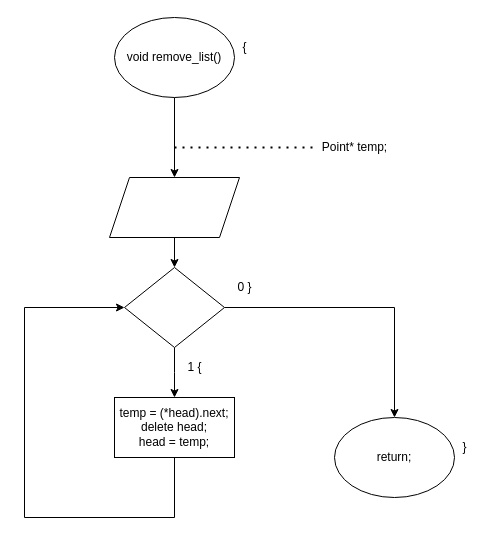
The diagram is 492 pixels wide and 543 high, and some of its shapes have lost their labels. Here are the shapes that lost their labels. From the top down, the centre of each, then its label:
At (x=174, y=207): "Вспомогательный вывод;".
At (x=174, y=307): "while (head != nullptr)".
